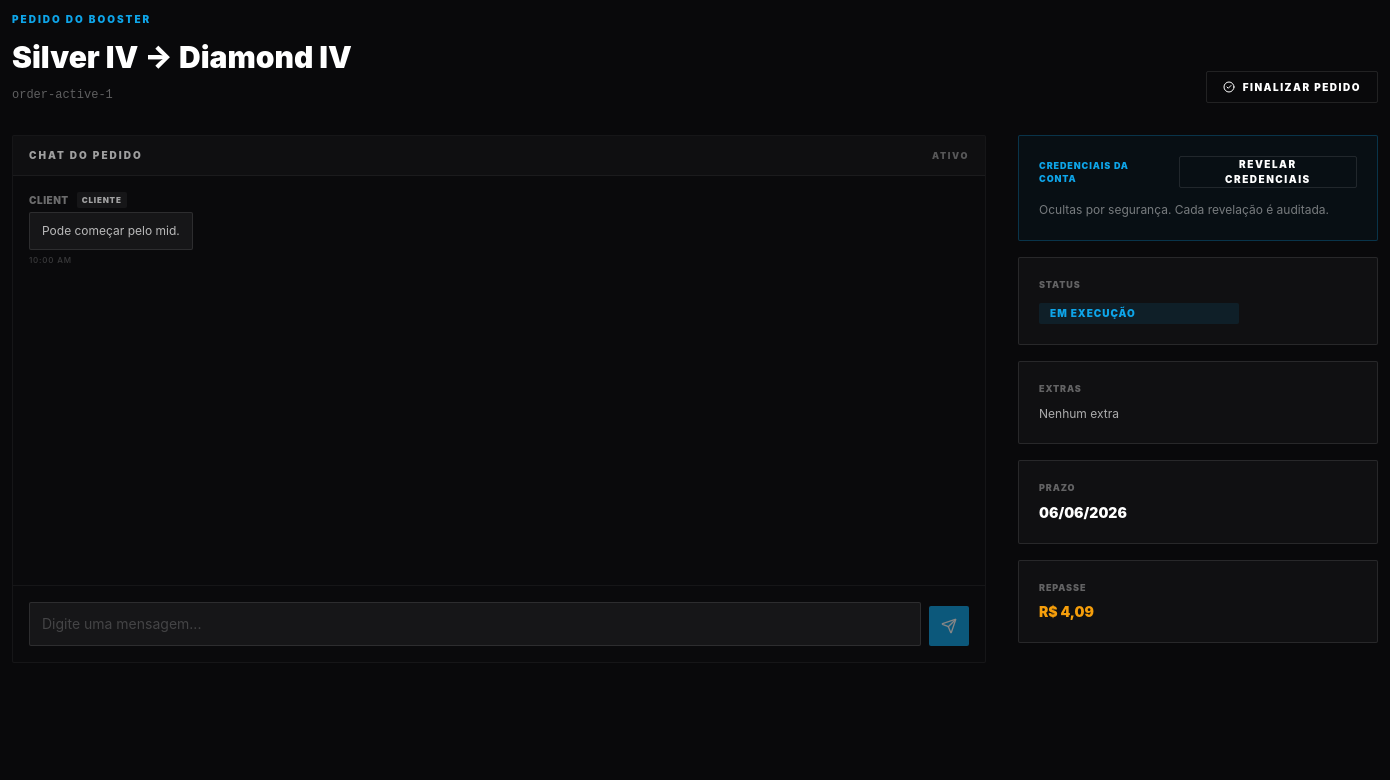
BoosterOrderDetailsPage › shows credential reveal failures without exposing fields: Credenciais indisponíveis para este pedido.
The image size is (1390, 780).
What coordinates should you click on to do the following:
click the button "Revelar credenciais"
I would click on:
 (1268, 172)
Its box is [1179, 156, 1357, 188].
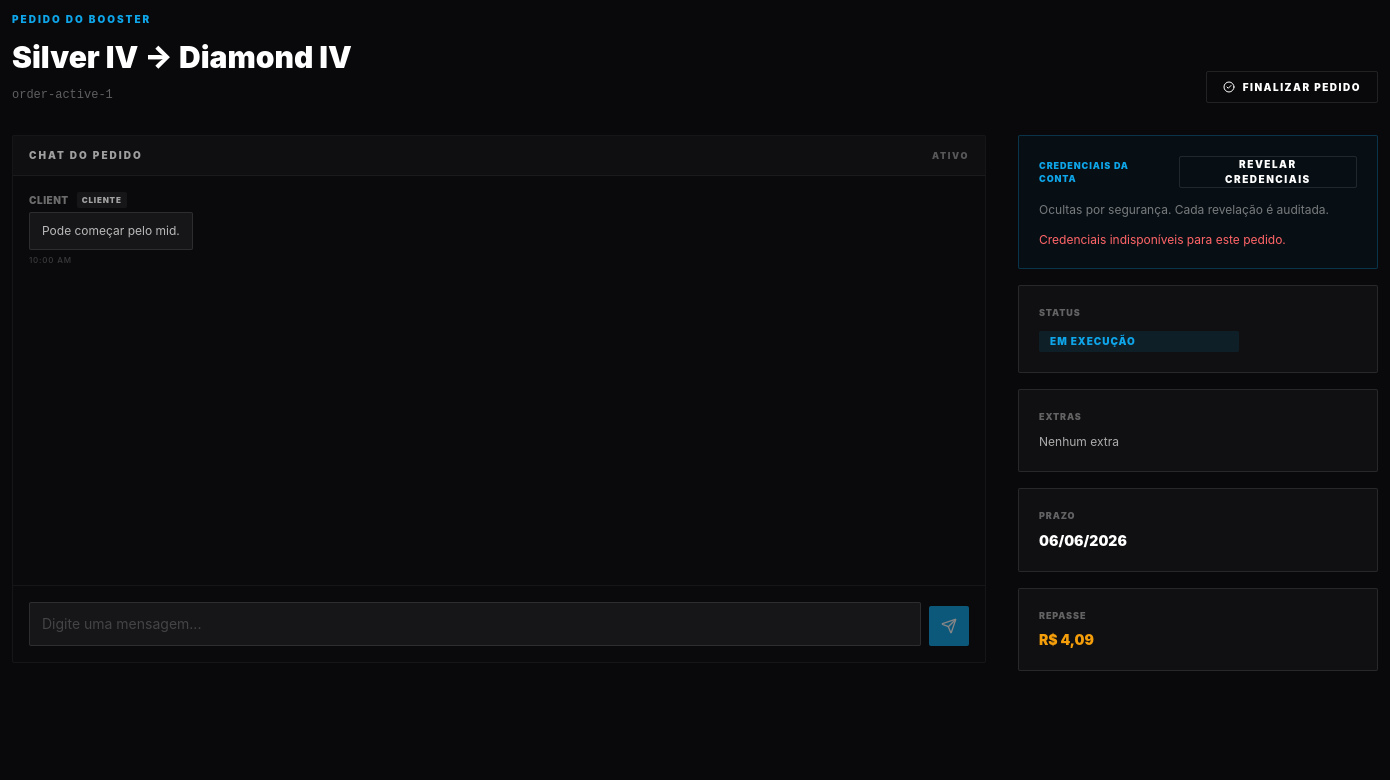
expect the text "Credenciais indisponíveis para este pedido." is shown: met, box [1039, 232, 1286, 246]
